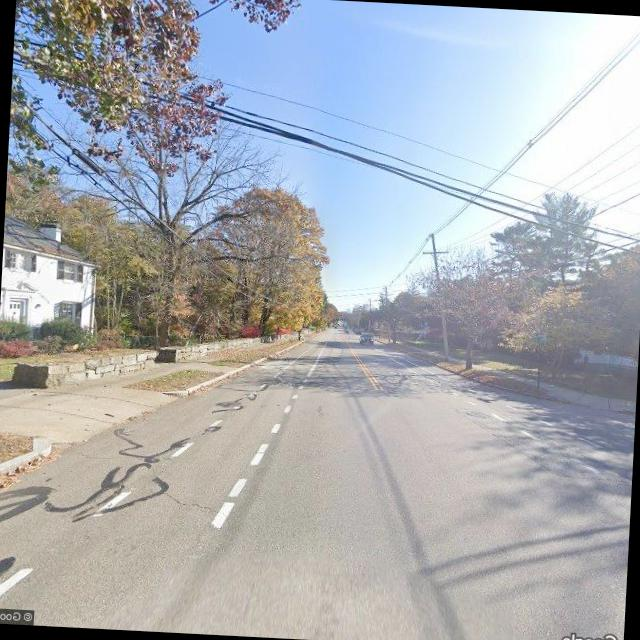crack: (156, 487, 224, 514)
